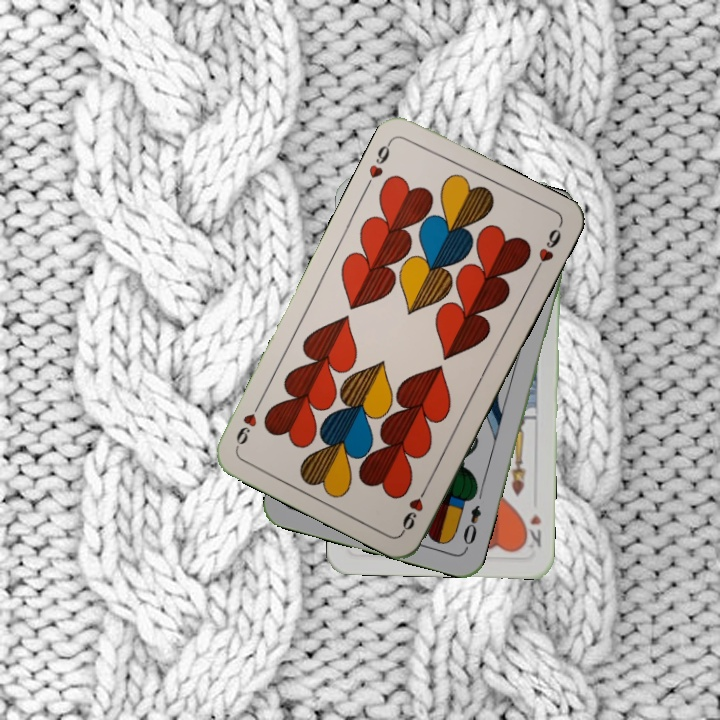EO: (459, 501, 484, 552)
H9: (398, 480, 432, 535), (361, 136, 395, 191)
HK: (519, 510, 544, 550)
